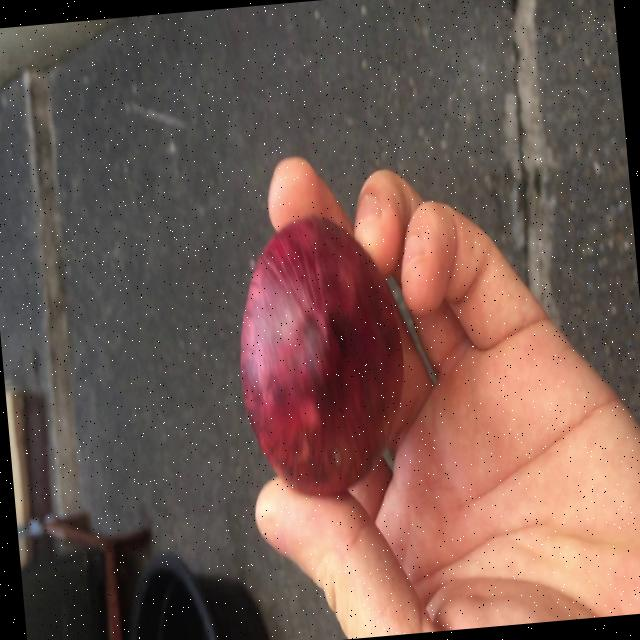Onion: (241, 217, 403, 496)
